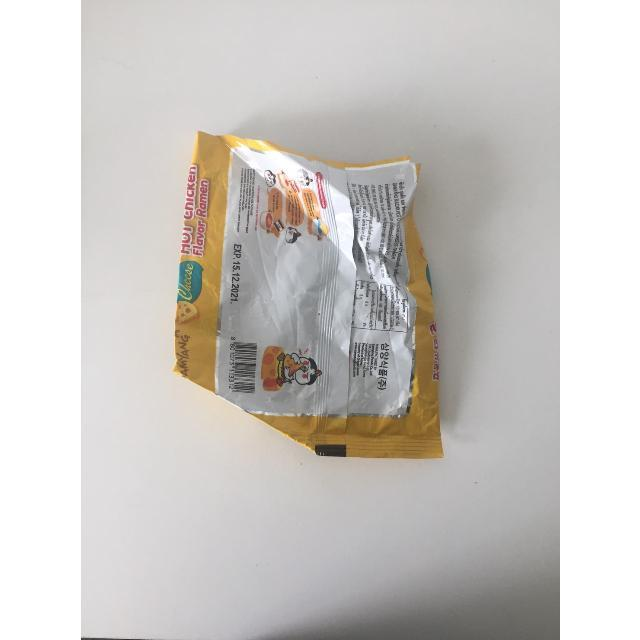Paquete de plastico: (173, 127, 449, 460)
